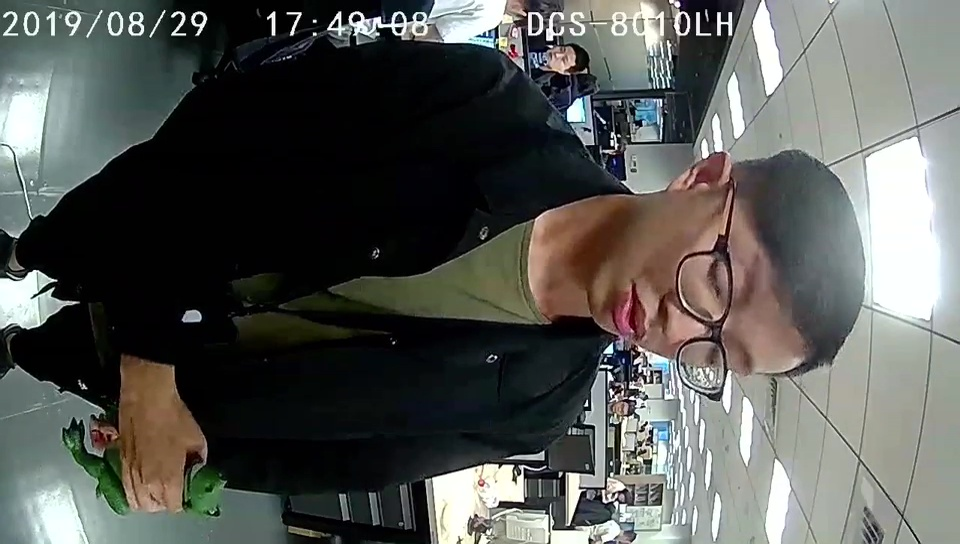rex: (60, 418, 227, 519)
